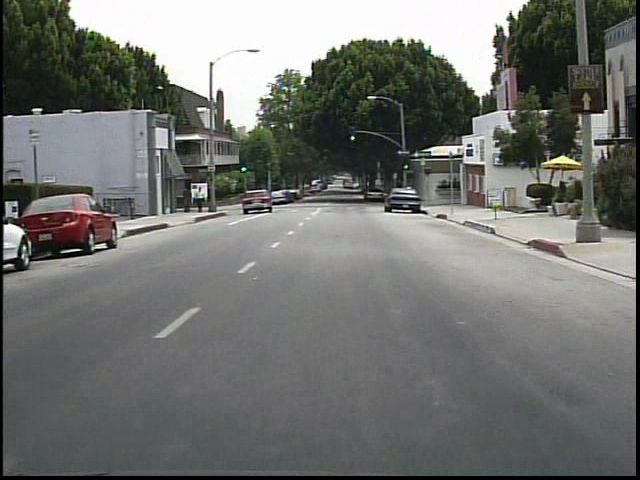person: (183, 184, 195, 215), (196, 186, 208, 215)
